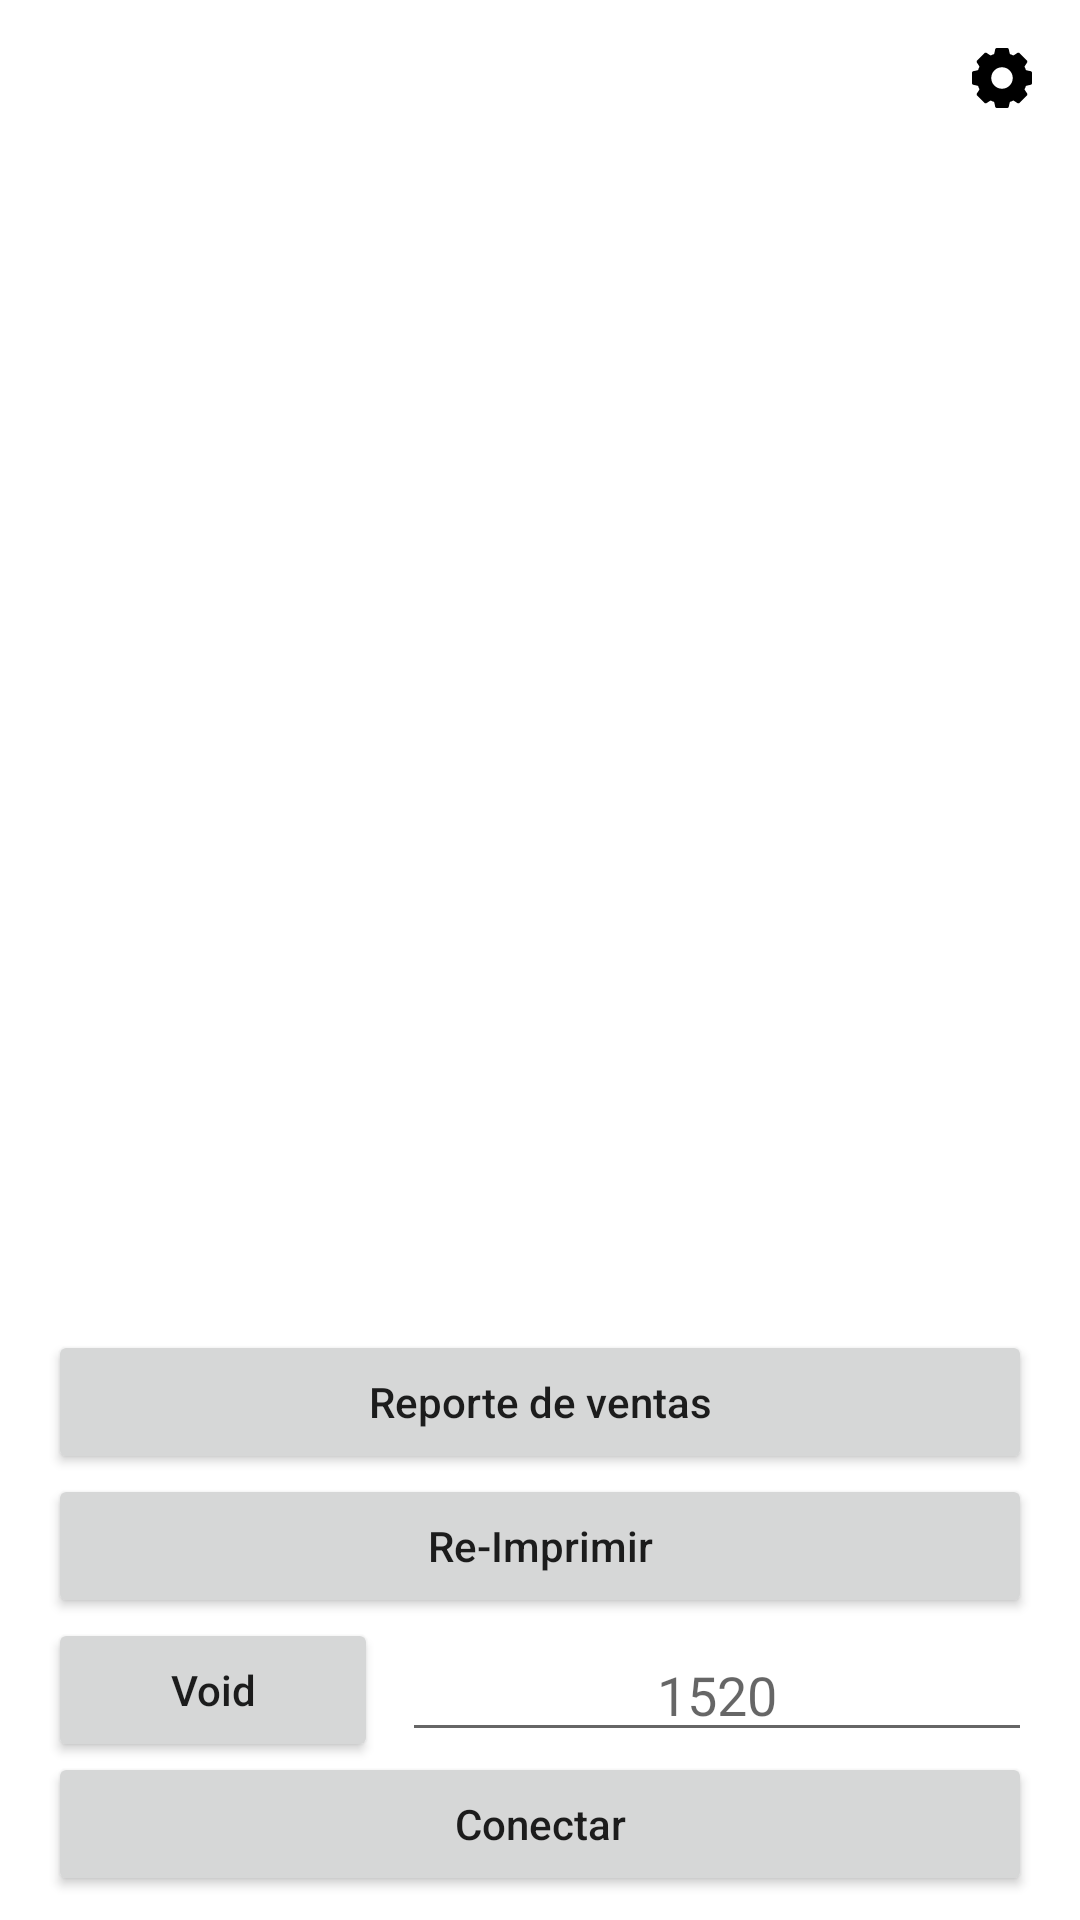

Locate icon controls on the screen. Image size 1080*1920, boxes as (x1, y1, x2, y2).
settings: (972, 48, 1032, 108)
